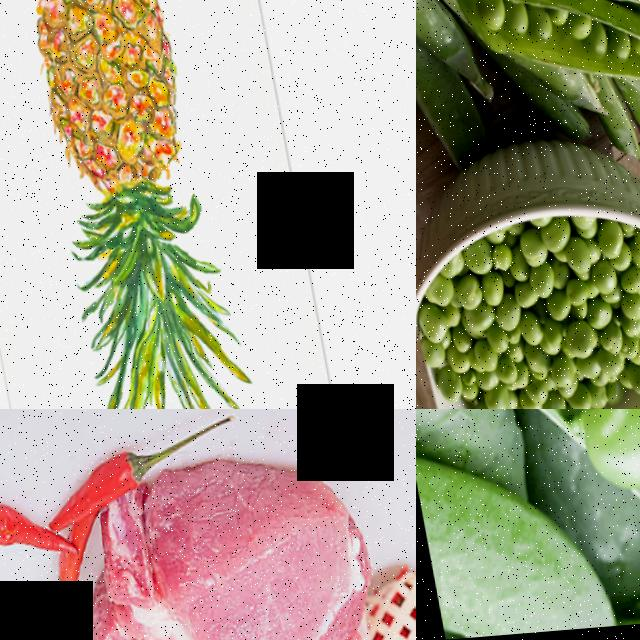chilli: (35, 442, 143, 539), (0, 494, 53, 571)
peas: (419, 218, 640, 409), (472, 0, 640, 99)
pineapple: (14, 0, 206, 295)
pork belly: (37, 480, 380, 640)
